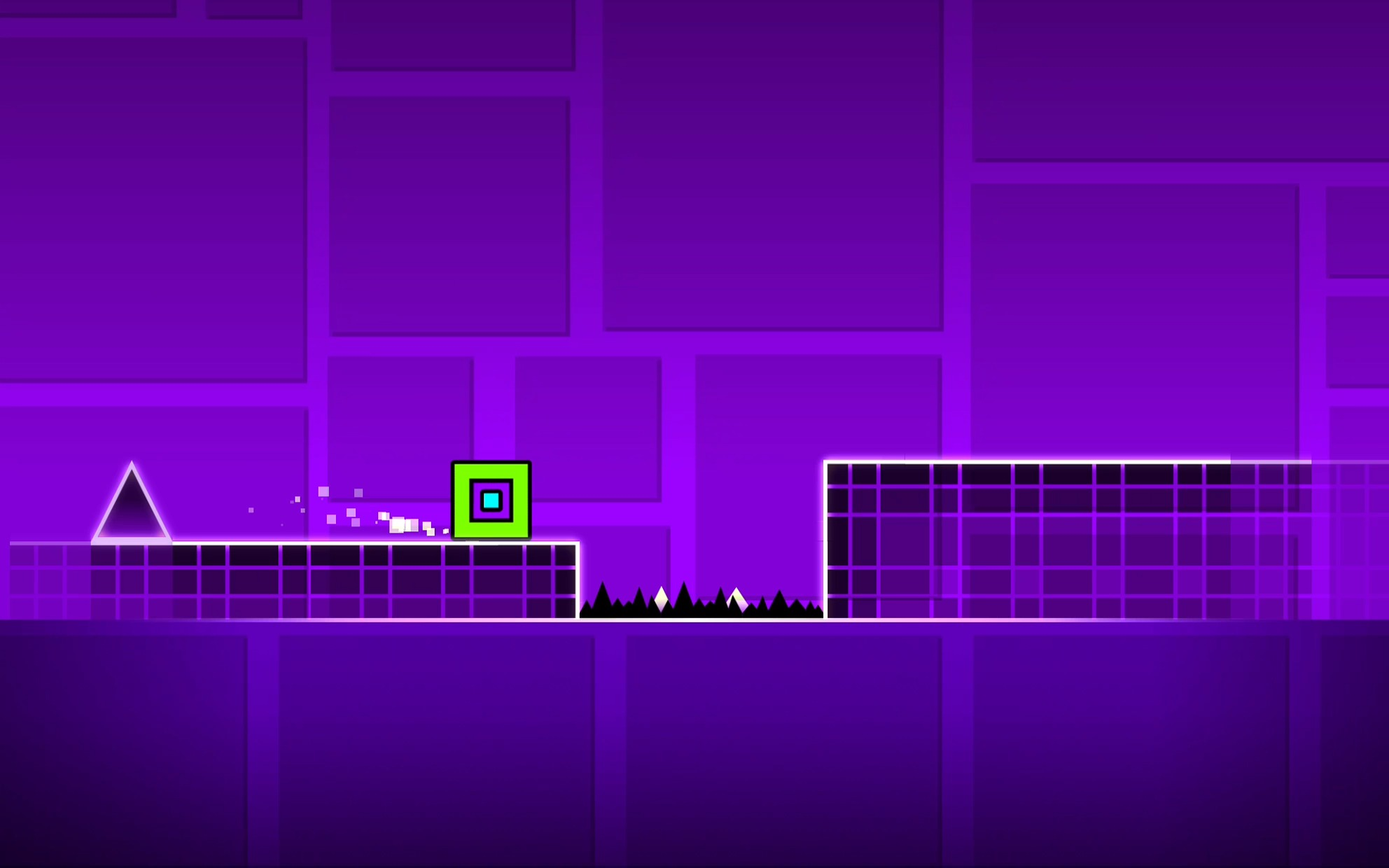Block2: (819, 458, 1389, 612), (0, 542, 577, 617)
Player: (451, 459, 531, 538)
Spike: (92, 463, 171, 539)
Spike3: (580, 582, 822, 622)
